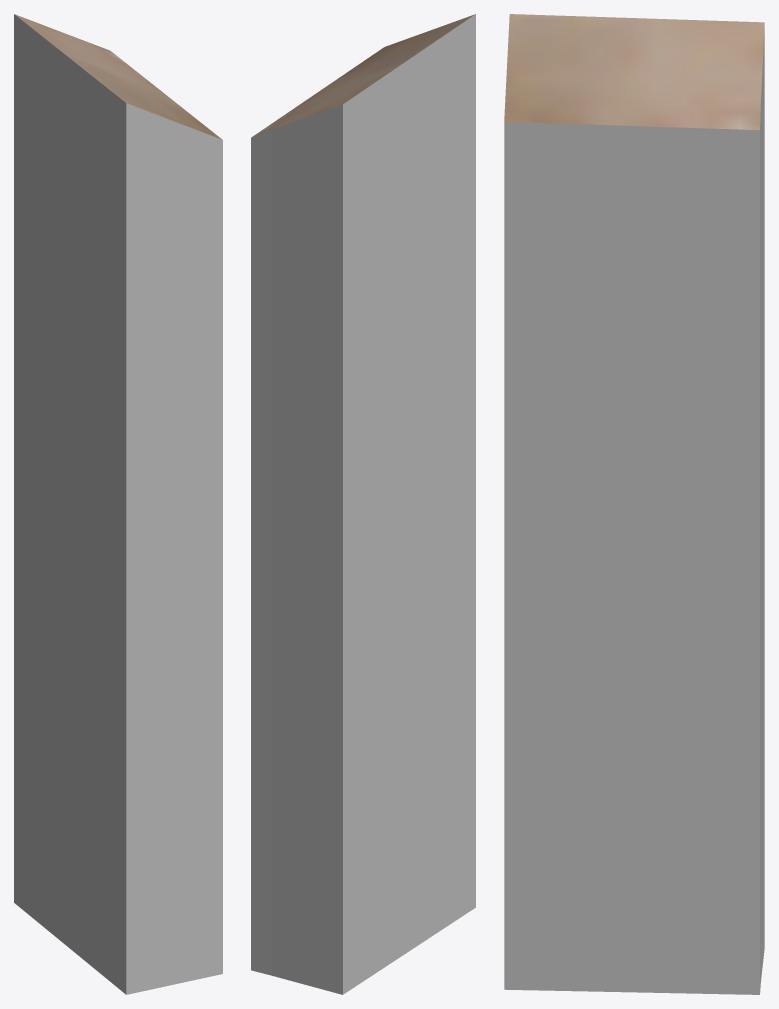
Rendered from DEBW_0010007THXY.gltf.
3 views of the same model, side by side, from view 1: azimuth 30°, elevation 25°; view 2: azimuth 150°, elevation 25°; view 3: azimuth 270°, elevation 25° (orthographic). The views are drawn at different scales.
Visible parts, largest first — view 1: Z_UP; view 2: Z_UP; view 3: Z_UP.
Boxes of the visible parts, x1=… form: Z_UP: x1=14, y1=14, x2=222, y2=994; Z_UP: x1=251, y1=14, x2=475, y2=994; Z_UP: x1=504, y1=14, x2=764, y2=994.
Bounding box in the file's own units: 1.83 × 14.97 × 3.81.
2 materials, 1 textured.
